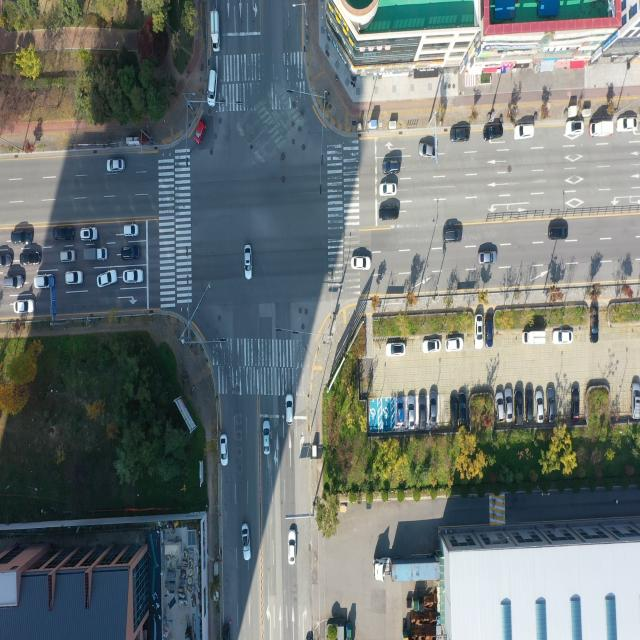car: (208, 68, 218, 107), (458, 393, 469, 428), (617, 115, 639, 132), (288, 526, 297, 564), (443, 227, 463, 244), (244, 246, 253, 282), (515, 125, 535, 141), (553, 331, 574, 346), (197, 120, 208, 148), (589, 306, 598, 340), (99, 272, 118, 288), (419, 143, 438, 159), (14, 232, 34, 247), (386, 343, 406, 358), (484, 127, 504, 142), (571, 386, 580, 419), (243, 524, 251, 561), (632, 381, 640, 418), (494, 391, 504, 420), (126, 270, 144, 286), (107, 160, 125, 176), (566, 119, 584, 135), (419, 392, 427, 428), (264, 420, 272, 454), (429, 390, 437, 424), (15, 301, 33, 316), (446, 338, 464, 353), (55, 228, 74, 242), (352, 256, 371, 270), (408, 398, 416, 431), (526, 391, 534, 424), (21, 252, 41, 265), (486, 316, 494, 348), (34, 276, 52, 290), (381, 208, 399, 222), (422, 340, 440, 354), (535, 391, 543, 422), (66, 272, 83, 286), (80, 230, 98, 243), (549, 225, 567, 238), (382, 163, 400, 176), (452, 131, 470, 144), (516, 388, 523, 421), (505, 392, 512, 425), (285, 395, 293, 423), (545, 386, 552, 418), (220, 436, 228, 464), (449, 390, 456, 422), (124, 247, 141, 260), (396, 397, 405, 421), (125, 223, 140, 237), (381, 182, 397, 195), (481, 251, 497, 264), (5, 277, 22, 289), (62, 250, 76, 262), (221, 622, 230, 640), (0, 253, 12, 266)
large_truck: (371, 556, 441, 584)
small_truck: (522, 331, 546, 348), (591, 121, 614, 138), (210, 12, 219, 54), (84, 248, 110, 262)
